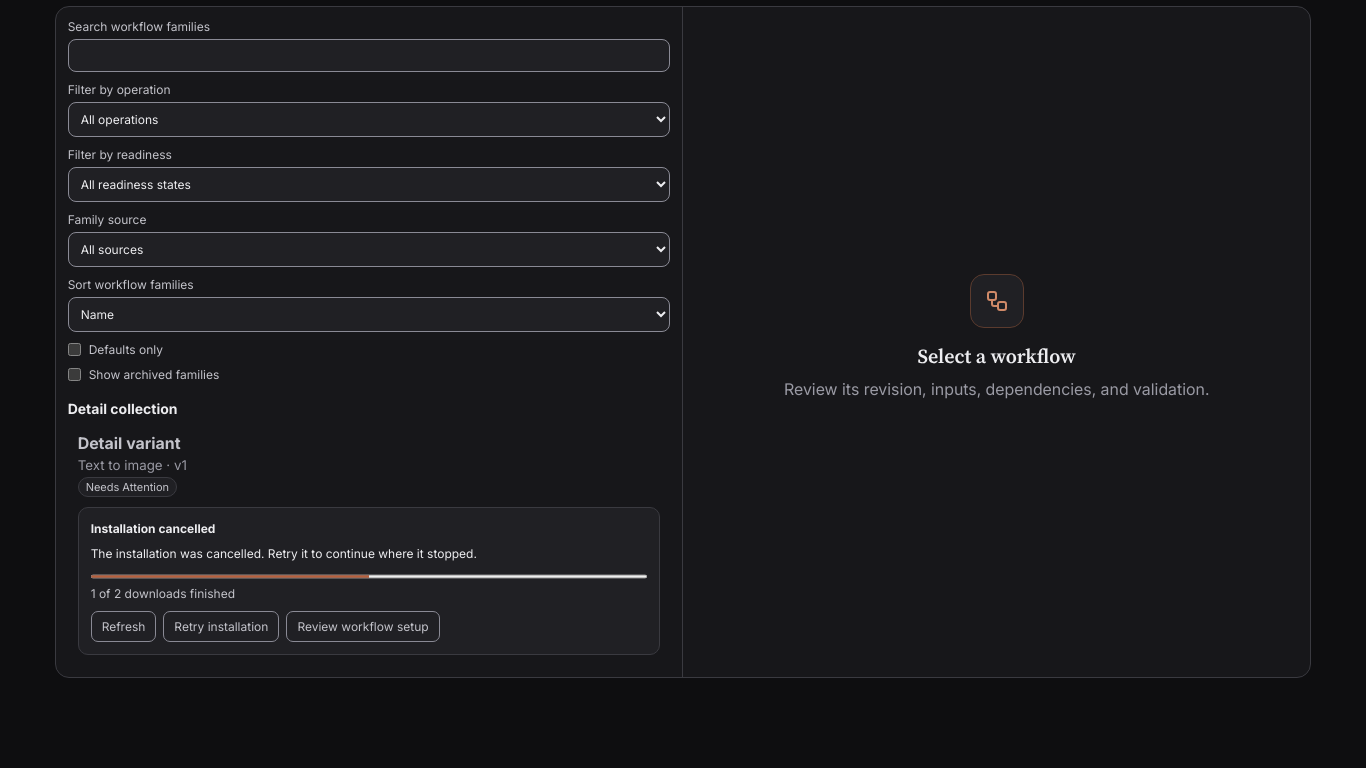
Test case: retries a cancelled installation from its status and shows the resumed progress
This screenshot has width=1366, height=768.
(page scrolled)
Expected: the heading "Detail collection" is shown, [68,400,178,417]
Expected: the message reads "Installation cancelled", [91,521,215,536]
What coordinates should you click on to do the following:
click the button "Retry installation"
I would click on:
 (221, 626)
Its box is [163,611,279,642].
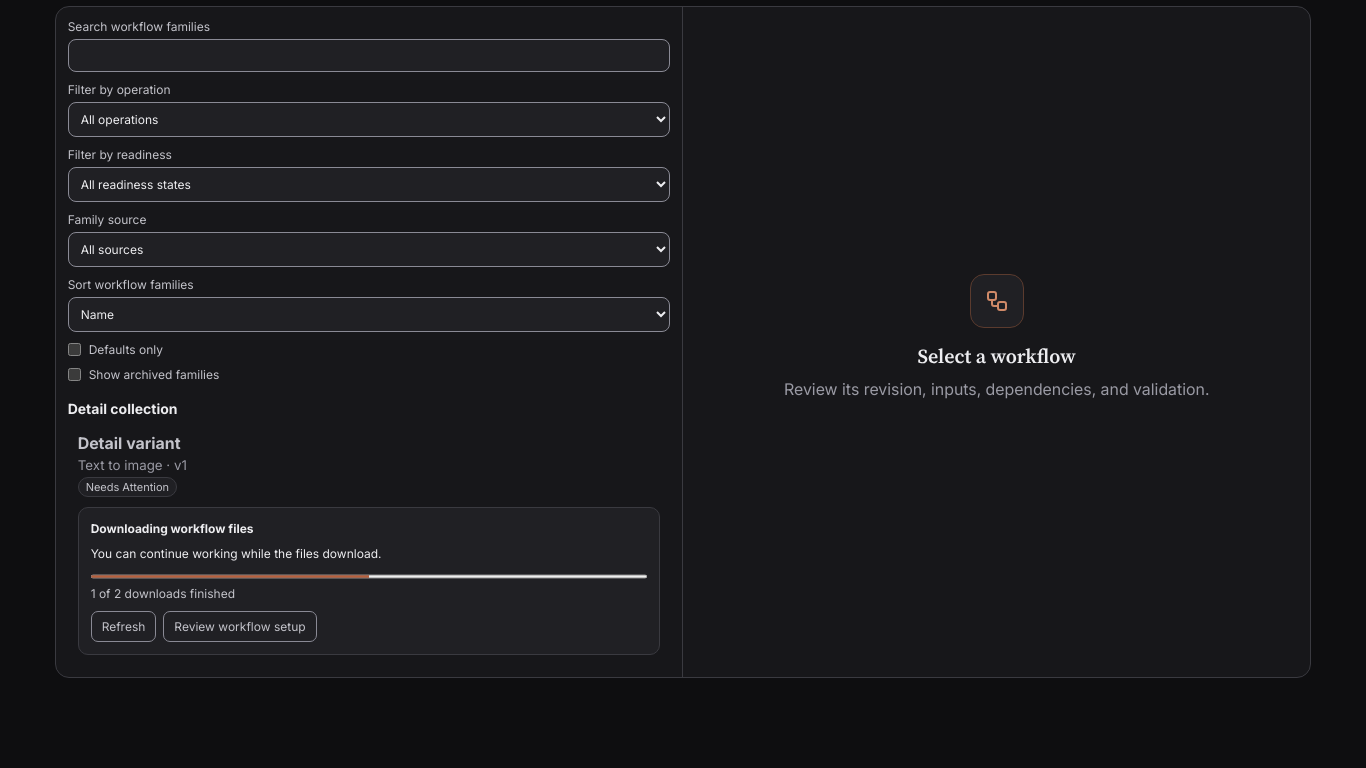
Expected: the message reads "Downloading workflow files", [91,521,254,536]
Expected: the button "Retry installation" is gone
